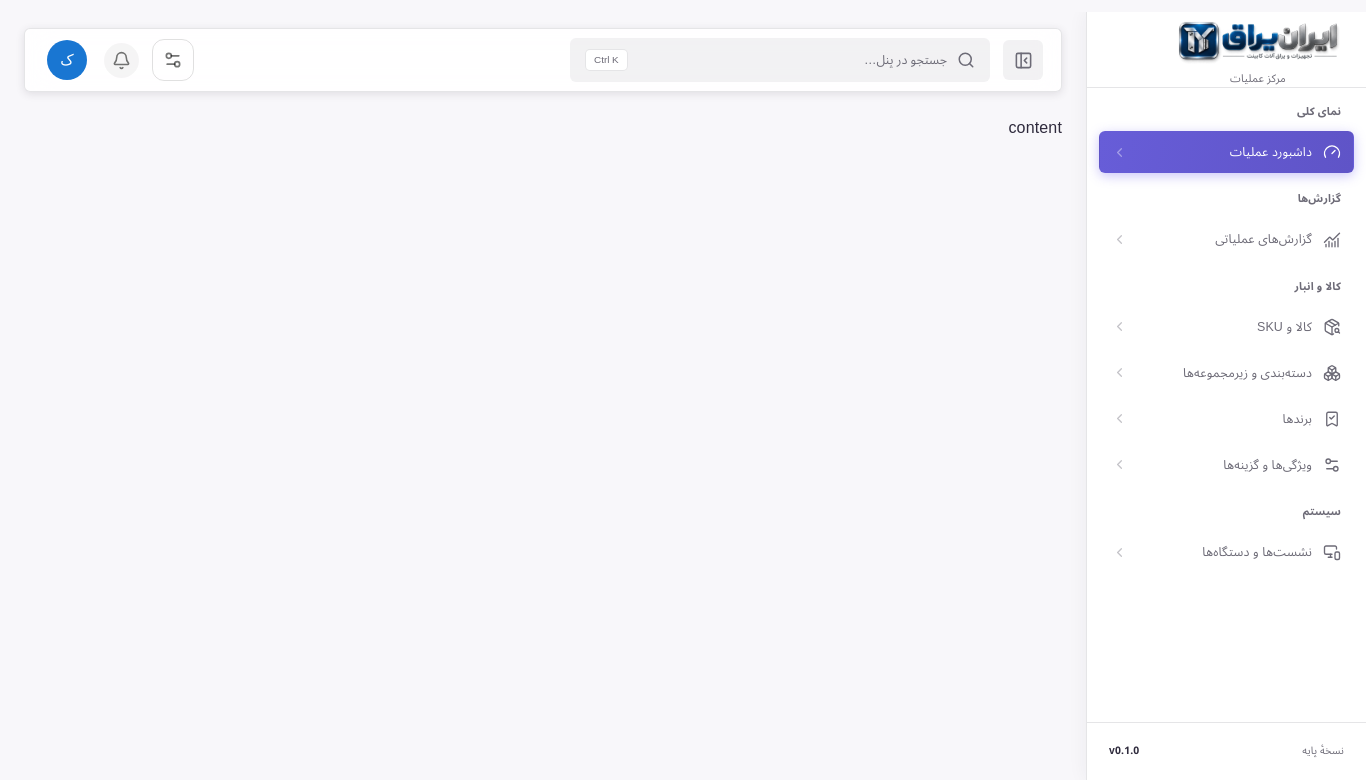
Scenario: AdminShell › opens an honest empty notifications state without runtime fixtures
The width and height of the screenshot is (1366, 780).
Click the button named "اعلان‌ها" at (122, 60), box [104,42,139,78]
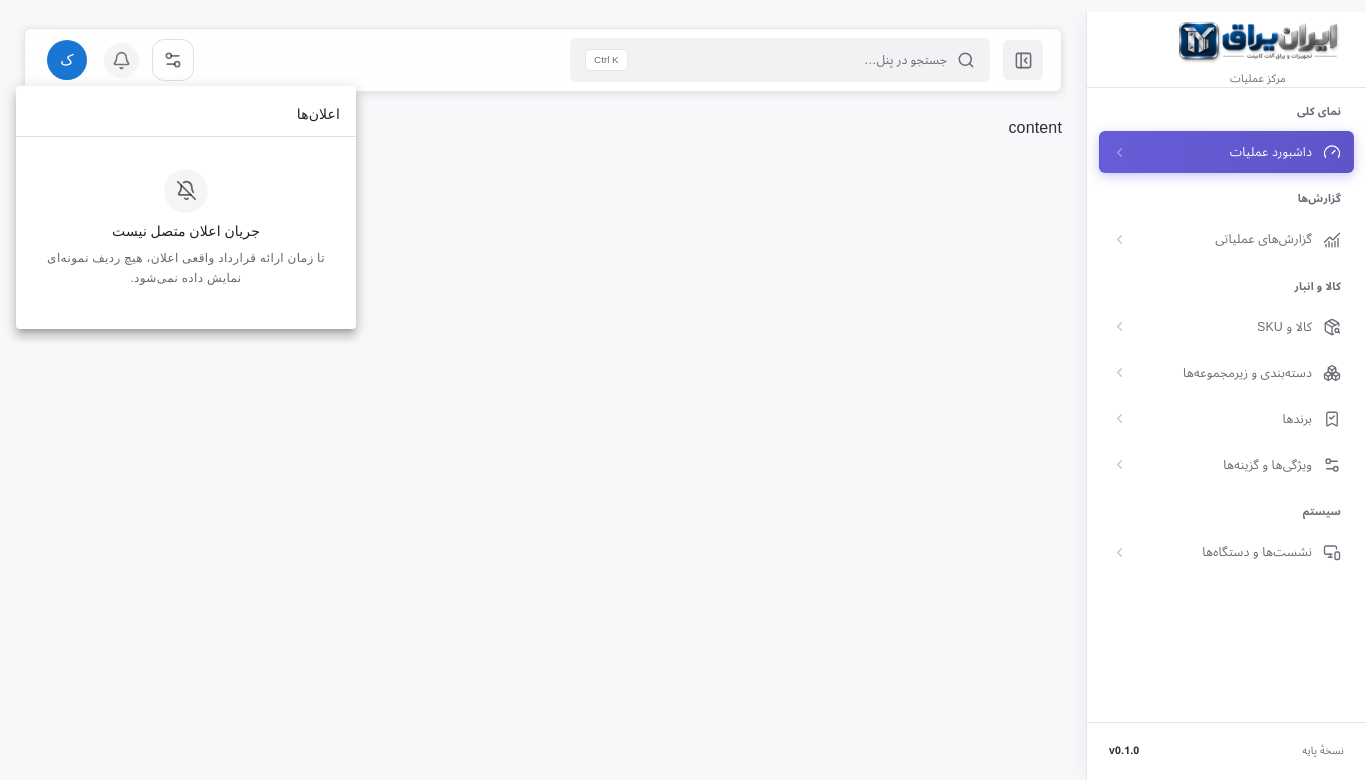
Expected: the text "جریان اعلان متصل نیست" is shown, [112,223,260,239]
